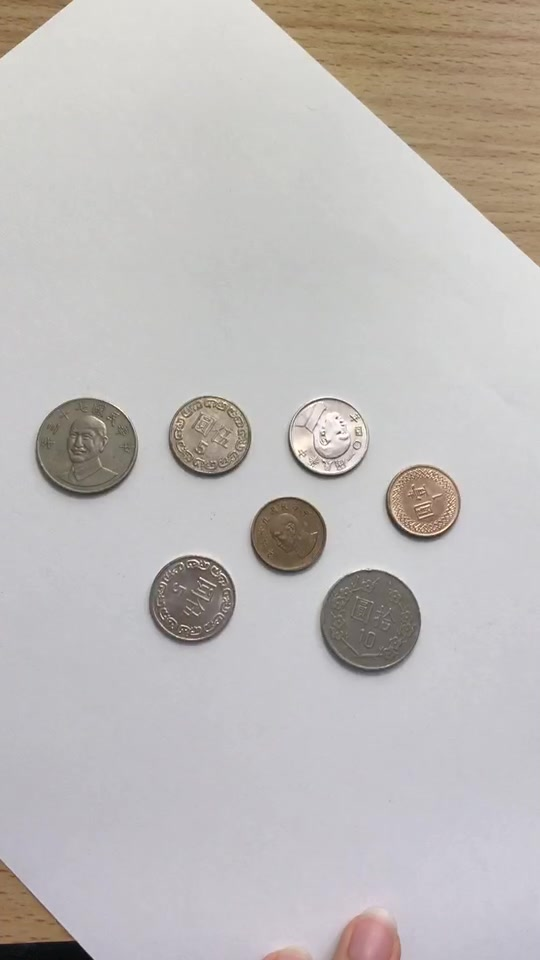1 dallar: (243, 487, 343, 579), (376, 460, 476, 552)
10 dallar: (21, 385, 143, 510), (313, 559, 435, 684)
5 dallar: (156, 381, 256, 485), (277, 378, 377, 482), (139, 548, 239, 652)
